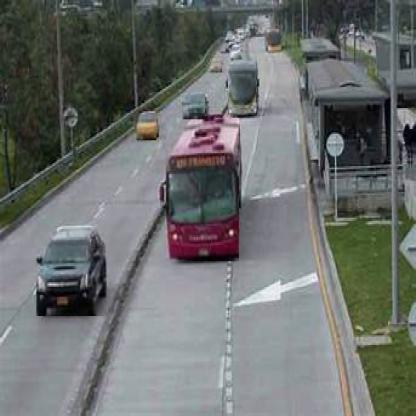bus: (167, 119, 241, 264), (229, 64, 258, 117), (266, 30, 284, 54)
car: (37, 222, 109, 319), (182, 94, 207, 122), (136, 114, 159, 143), (211, 59, 223, 74), (231, 48, 240, 61), (219, 42, 228, 55), (228, 32, 234, 41)
